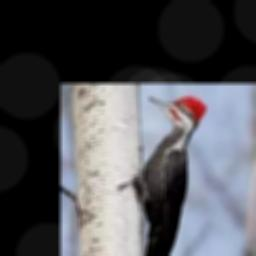Woodpecker: (135, 97, 206, 256)
